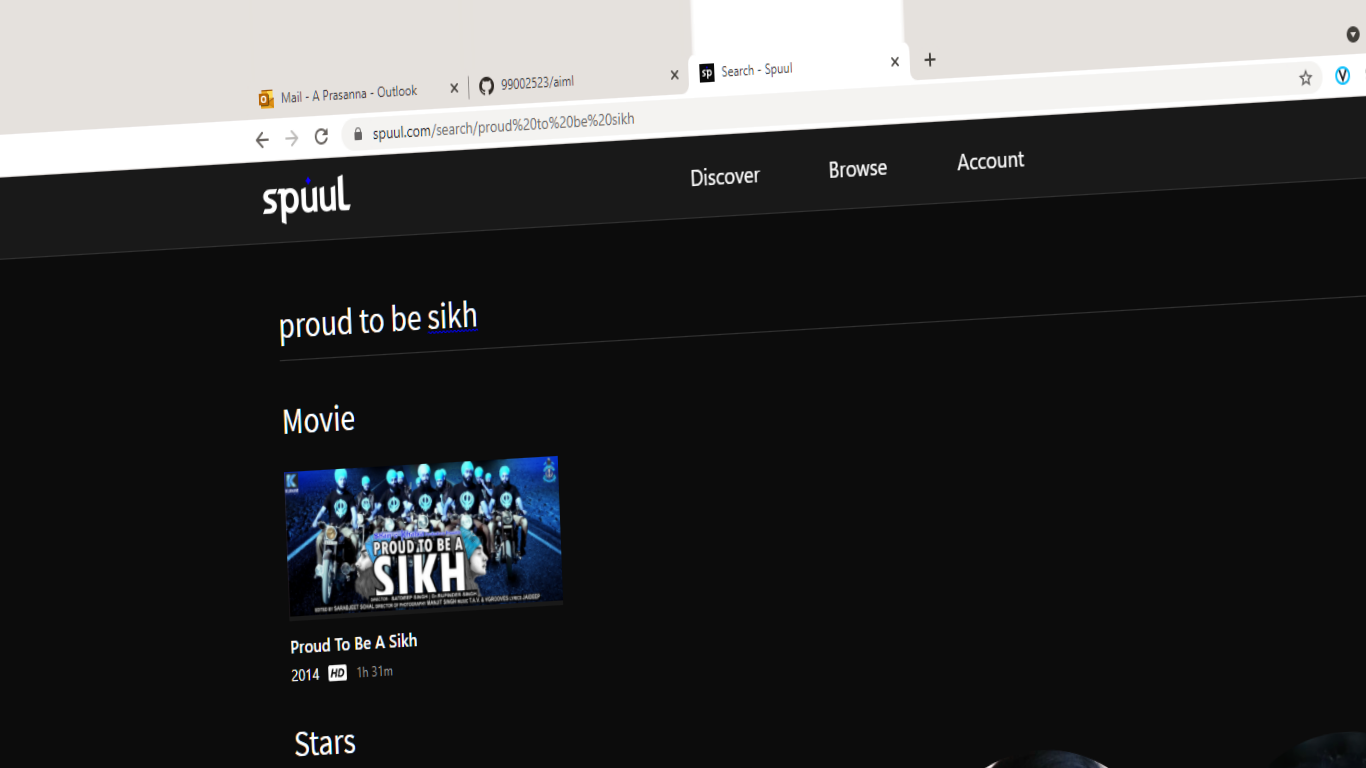myaccountbutton: (932, 131, 1069, 200)
resultsfound: (281, 374, 704, 461)
searchtextbox: (258, 259, 1345, 363)
